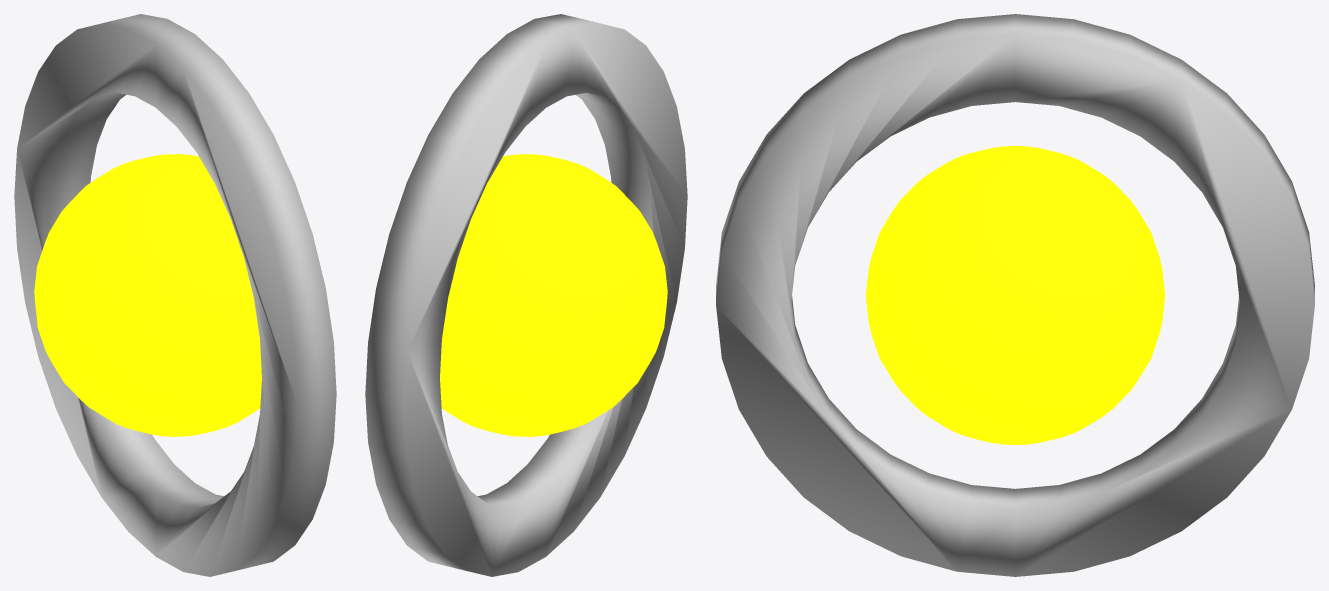
File: PowerUp(Model).fbx
3 views of the same model, side by side, from view 1: azimuth 30°, elevation 25°; view 2: azimuth 150°, elevation 25°; view 3: azimuth 270°, elevation 25° (orthographic). The views are drawn at different scales.
Parts seen in each view (by area): view 1: Sphere; view 2: Sphere; view 3: Sphere.
Part boxes in pixels (<box>): Sphere: <box>14,14,336,576</box>; Sphere: <box>365,14,687,576</box>; Sphere: <box>716,14,1314,576</box>.
Bounding box in the file's own units: 50 × 100 × 100.
